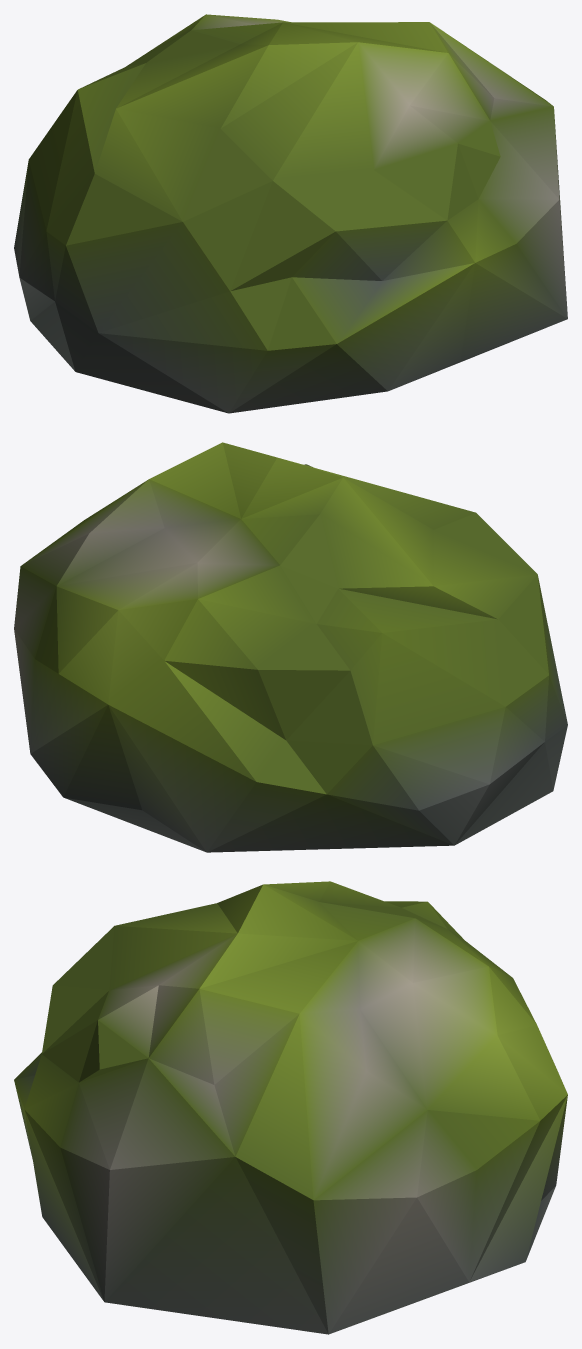
The model's file is river_boulder-lod1.glb.
3 renders of one model, top to bottom at view 1: azimuth 30°, elevation 25°; view 2: azimuth 150°, elevation 25°; view 3: azimuth 270°, elevation 25°, orthographic. The views are drawn at different scales.
Parts seen in each view (by area): view 1: river_boulder; view 2: river_boulder; view 3: river_boulder.
Part boxes in pixels (x1=…): river_boulder: x1=14, y1=14, x2=567, y2=413; river_boulder: x1=14, y1=442, x2=567, y2=852; river_boulder: x1=14, y1=881, x2=567, y2=1334.
Bounding box in the file's own units: 2.57 × 1.37 × 2.24.
